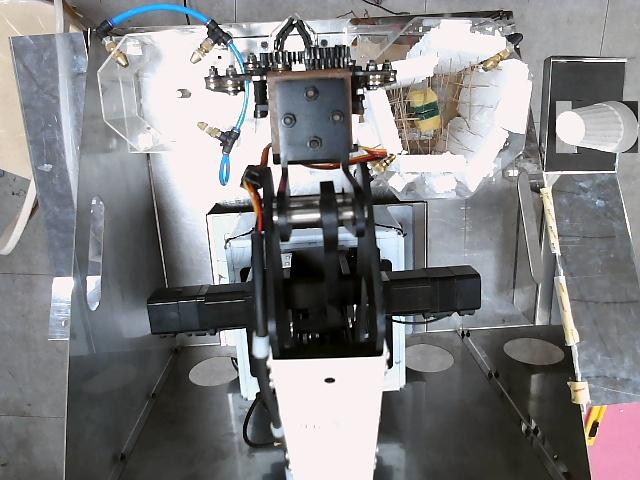cup: (556, 101, 638, 153)
